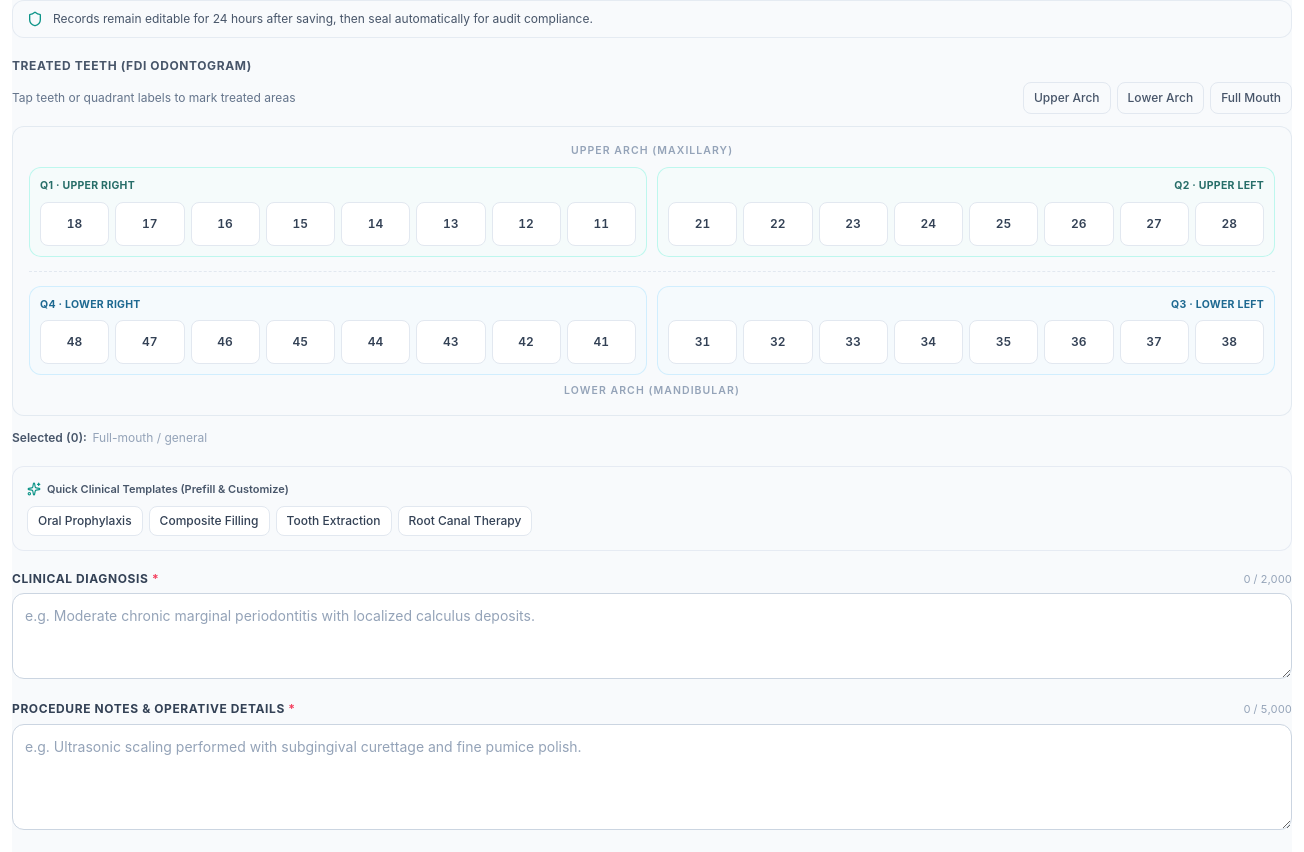
Test case: TreatmentRecordEditor Component › allows selecting teeth numbers in FDI chart
This screenshot has width=1304, height=852.
Click tooth 14
Click the button "14".
click(376, 224)  # box [341, 202, 410, 246]
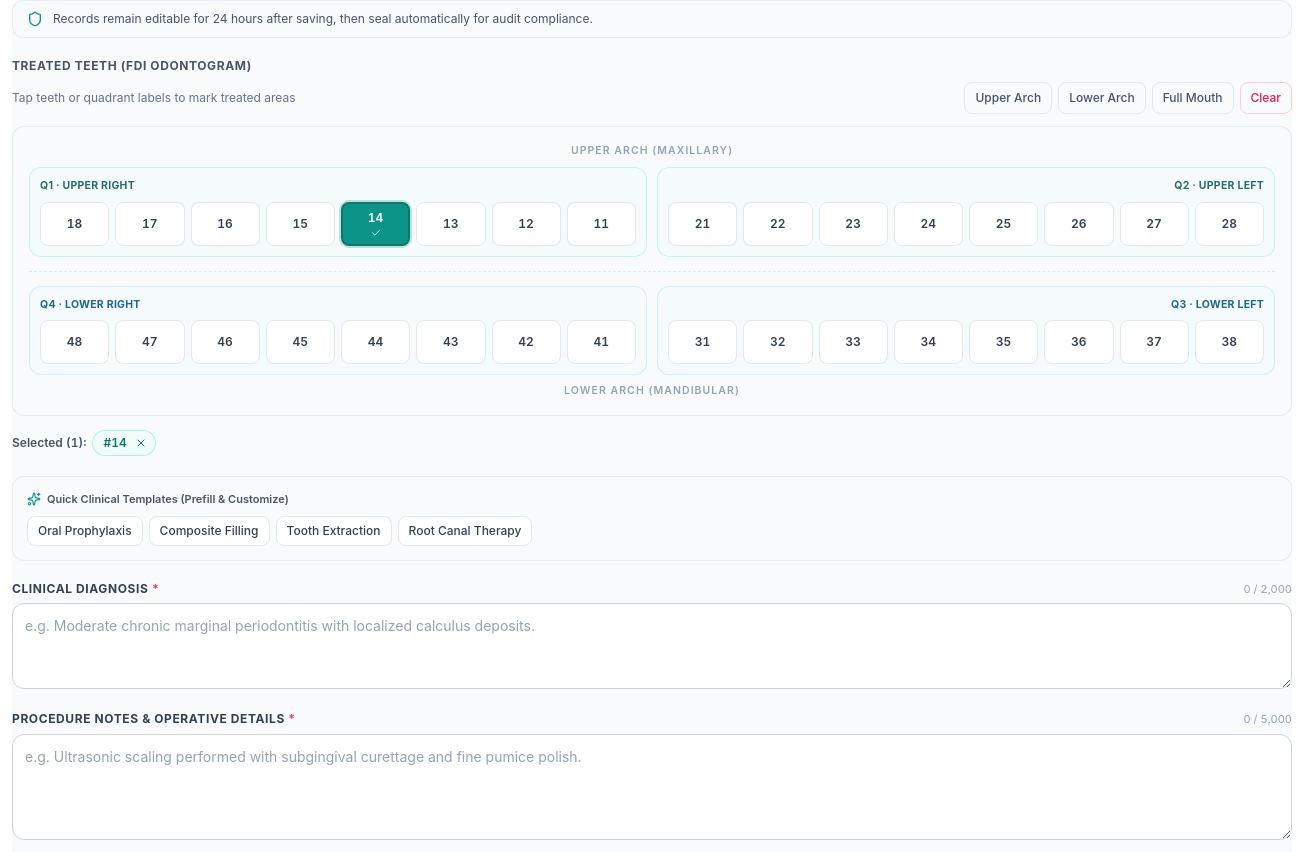
Check: the text "#14" is shown, box [92, 430, 156, 456]
